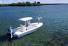fishing boat: (6, 14, 44, 40)
